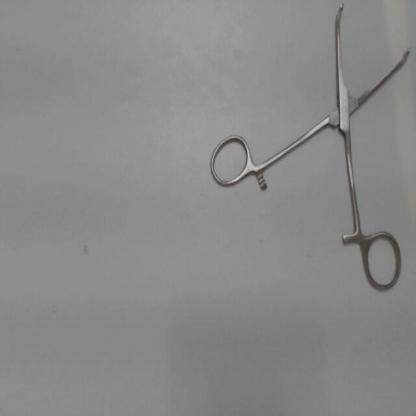Allis Tissue Forceps: (200, 0, 415, 296)
